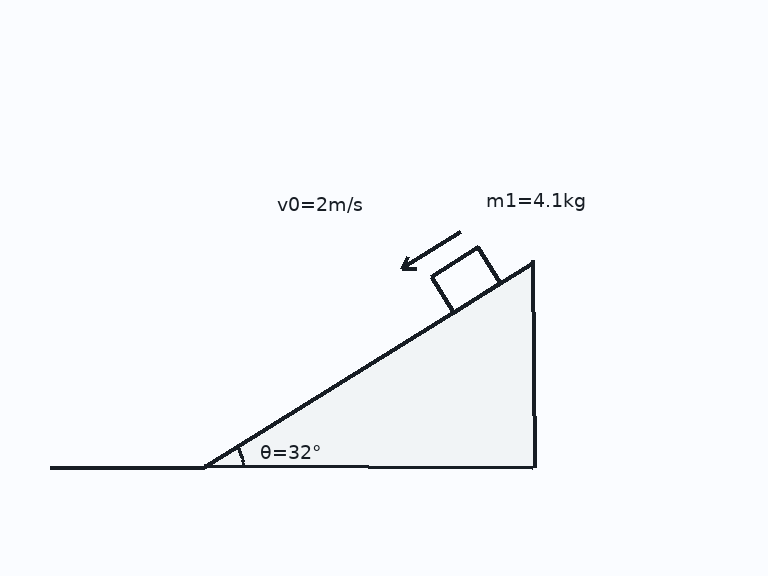block: (429, 245, 502, 313)
ramp: (201, 259, 535, 469)
